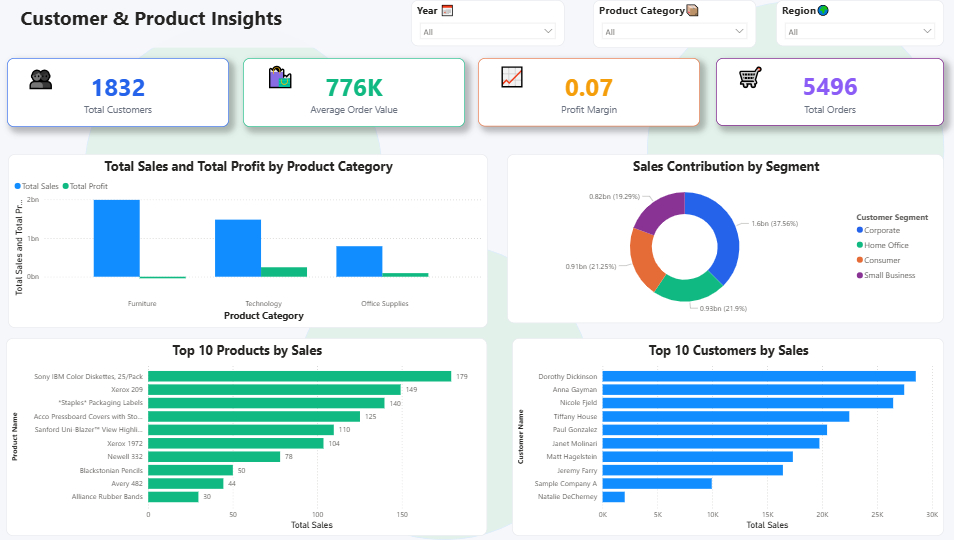

What the dashboard file says about the page in this screenshot:
{"tool":"powerbi","page":{"name":"Customer & Product Analysis","canvas":[1600,900],"ordinal":1},"visuals":[{"type":"shape","box":[495,405,496.8,495],"z":0},{"type":"shape","box":[143.1,40.6,497.7,497.7],"z":500},{"type":"shape","box":[1080.9,2.1,495.6,497.7],"z":1000},{"type":"card","title":"Total Customers","fields":{"Values":["_Measures.Total Customers"]},"box":[15,96,370,115],"z":2000},{"type":"card","title":"Average Order Value","fields":{"Values":["_Measures.Average Order Value"]},"box":[408,96,370,115],"z":3000},{"type":"card","title":"Profit Margin","fields":{"Values":["_Measures.Profit Margin"]},"box":[800,96,370,114],"z":4000},{"type":"card","title":"Total Orders","fields":{"Values":["_Measures.Total Orders"]},"box":[1196.7,96.7,380,113.3],"z":5000},{"type":"clusteredColumnChart","fields":{"Category":["Dim_Product.Product Category"],"Y":["_Measures.Total Sales","_Measures.Total Profit"]},"box":[16,256,800,290],"z":6000},{"type":"clusteredBarChart","title":"Top 10 Products by Sales","fields":{"Category":["Dim_Product.Product Name"],"Y":["_Measures.Total Sales"]},"box":[14,564,802,330],"z":7000},{"type":"clusteredBarChart","title":"Top 10 Customers by Sales","fields":{"Category":["Dim_Customer.Customer Name"],"Y":["_Measures.Total Sales"]},"box":[856,564,720,330],"z":8000},{"type":"donutChart","title":"Sales Contribution by Segment","fields":{"Category":["Dim_Customer.Customer Segment"],"Y":["_Measures.Total Sales"]},"box":[848.3,256.7,728.3,281.7],"z":9000},{"type":"slicer","title":"Year 📅","fields":{"Values":["Dim_Date.Year"]},"box":[687.9,0,256.3,76.9],"z":10000},{"type":"slicer","title":"Product Category📦","fields":{"Values":["Dim_Product.Product Category"]},"box":[992,0,272,80],"z":11000},{"type":"slicer","title":"Region🌍","fields":{"Values":["Dim_Customer.Region"]},"box":[1296.7,0,280,76.7],"z":12000},{"type":"textbox","box":[32,0,542.6,79],"z":13000},{"type":"shape","box":[32,102.5,79,49.1],"z":14000},{"type":"shape","box":[1214,102.5,82,44],"z":15000},{"type":"shape","box":[816,102.5,80,46],"z":16000},{"type":"shape","box":[429.4,102.5,81.2,47],"z":17000}]}

Visuals, with their boxes in screenshot pixels (x1, y1, x2, y2), scaled from the page's 1600x900 canvas onto the 954x540 screenshot:
shape: region(295, 243, 591, 539)
shape: region(85, 24, 382, 323)
shape: region(644, 1, 940, 300)
"Total Customers" card: region(9, 58, 230, 127)
"Average Order Value" card: region(243, 58, 464, 127)
"Profit Margin" card: region(477, 58, 698, 126)
"Total Orders" card: region(714, 58, 940, 126)
clusteredColumnChart - Dim_Product.Product Category x _Measures.Total Sales: region(10, 154, 487, 328)
"Top 10 Products by Sales" clusteredBarChart: region(8, 338, 487, 536)
"Top 10 Customers by Sales" clusteredBarChart: region(510, 338, 940, 536)
"Sales Contribution by Segment" donutChart: region(506, 154, 940, 323)
"Year 📅" slicer: region(410, 0, 563, 46)
"Product Category📦" slicer: region(591, 0, 754, 48)
"Region🌍" slicer: region(773, 0, 940, 46)
textbox: region(19, 0, 343, 47)
shape: region(19, 62, 66, 91)
shape: region(724, 62, 773, 88)
shape: region(487, 62, 534, 89)
shape: region(256, 62, 304, 90)
